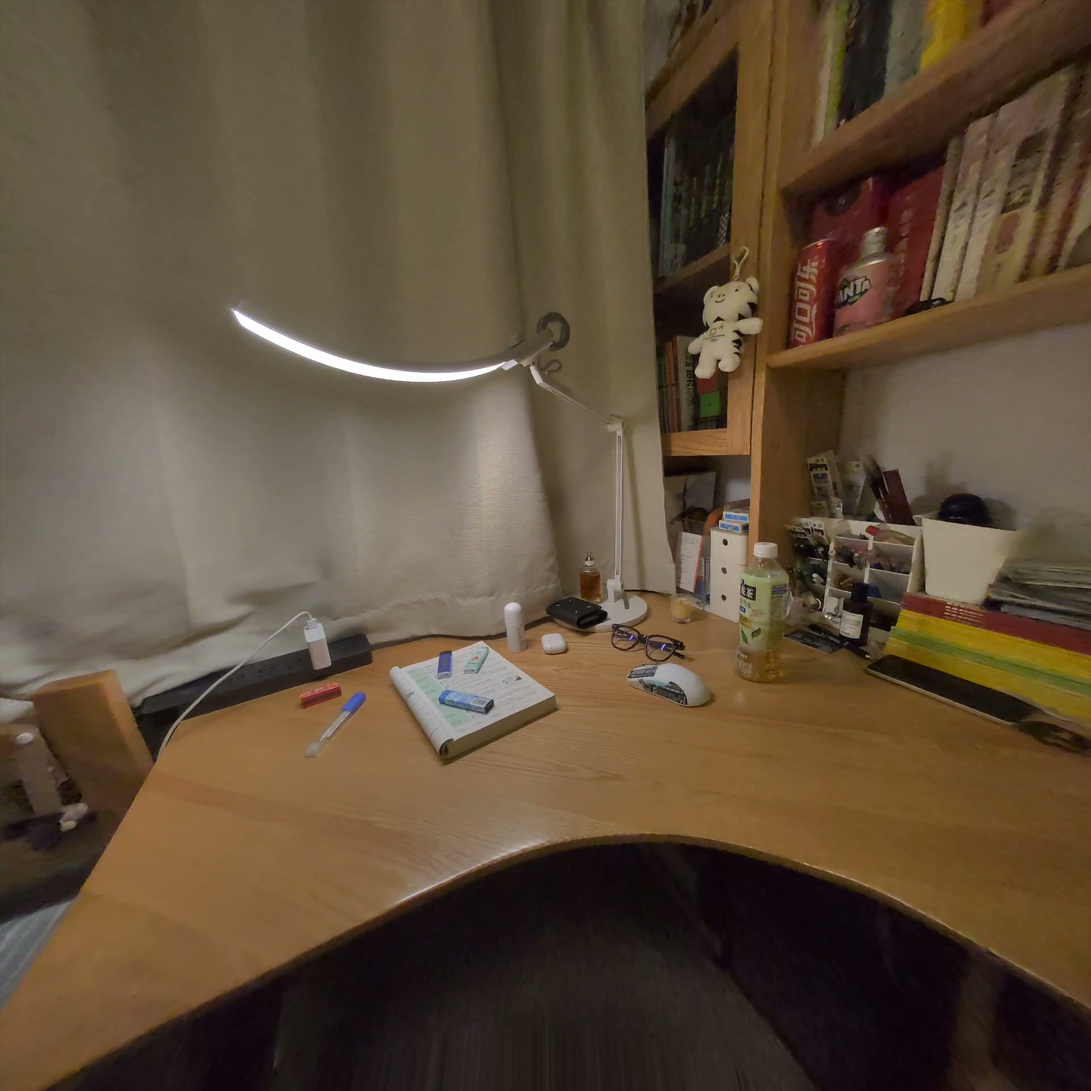lighter: (439, 690, 494, 714)
